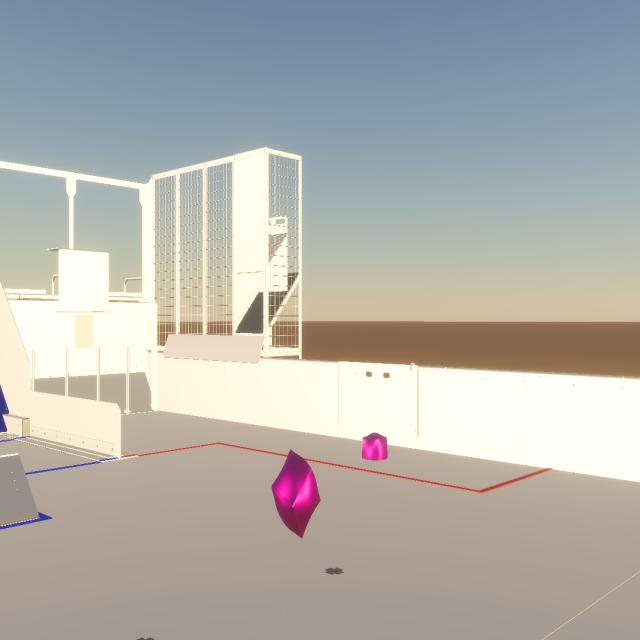frc_cube: (271, 449, 321, 539), (362, 432, 388, 460)
